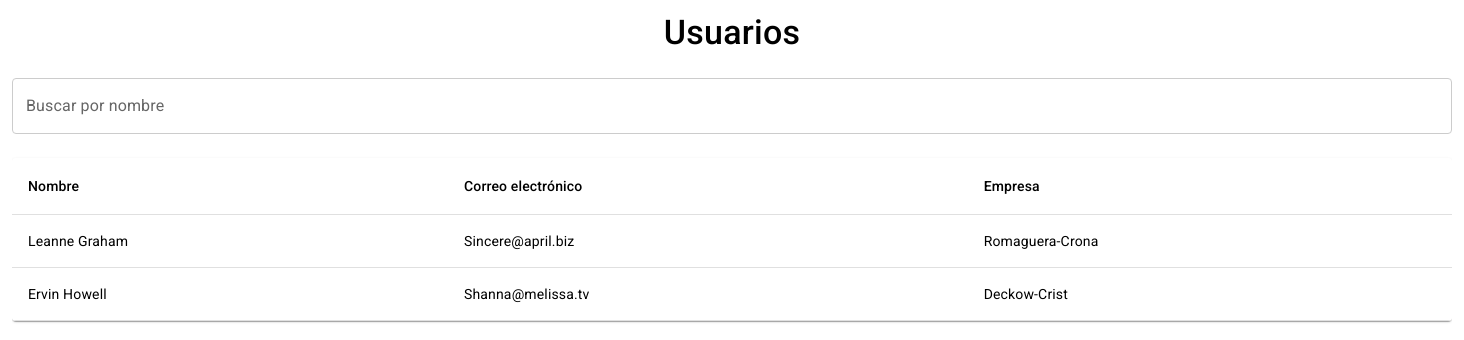
Test: UserList › filters users by name when typing in the search field
The width and height of the screenshot is (1464, 340).
Expected: the text "Leanne Graham" is shown, 12,214 -> 448,268
Expected: the text "Ervin Howell" is shown, 12,268 -> 448,320
In the field labelled "Buscar por nombre": x=732, y=106 12,78 -> 1452,134, type "Leanne"
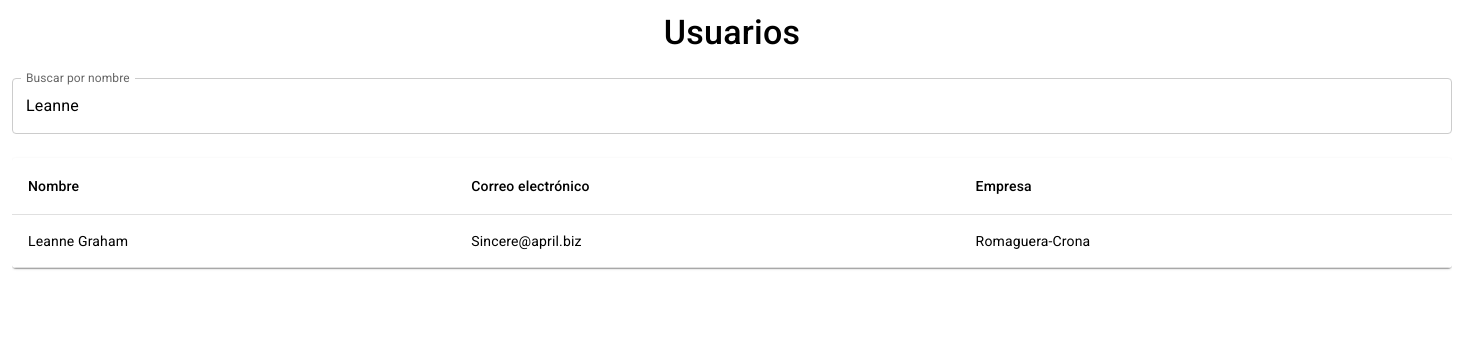
Expected: the text "Leanne Graham" is shown, 12,214 -> 455,268
Expected: the text "Ervin Howell" is gone
